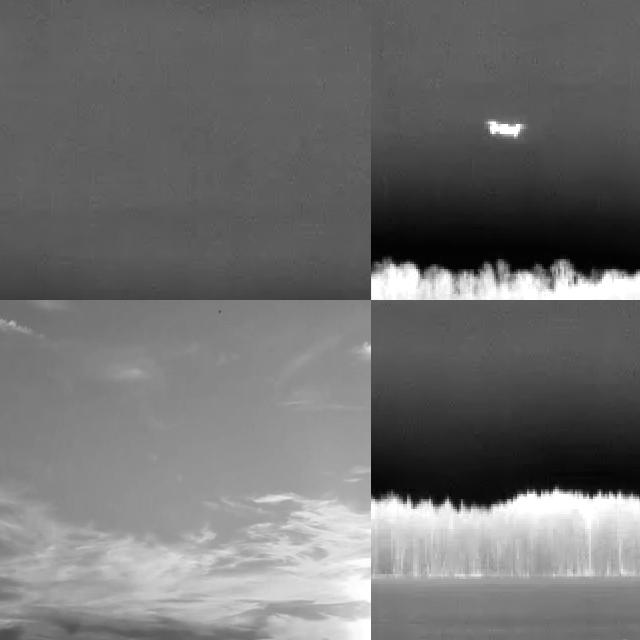1: (474, 112, 534, 148)
drone: (211, 300, 226, 321)
